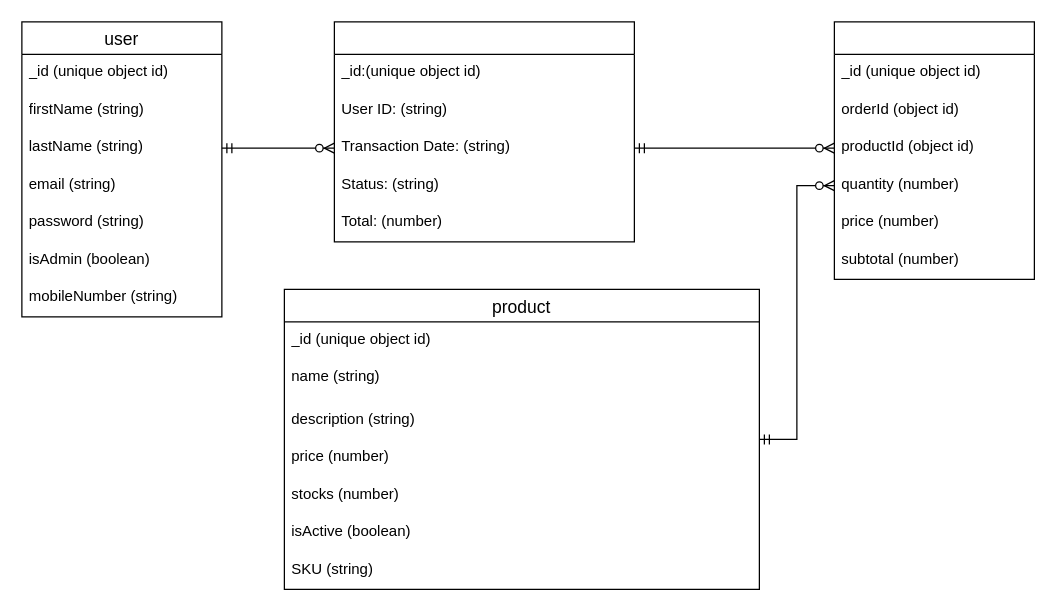
The diagram is 1056 pixels wide and 615 high, and some of its shapes have lost their labels. The box of each missing label's shape, as (x1, y1, x2, y2) in pixels:
order: (333, 21, 634, 242)
orderProduct: (833, 21, 1034, 279)
